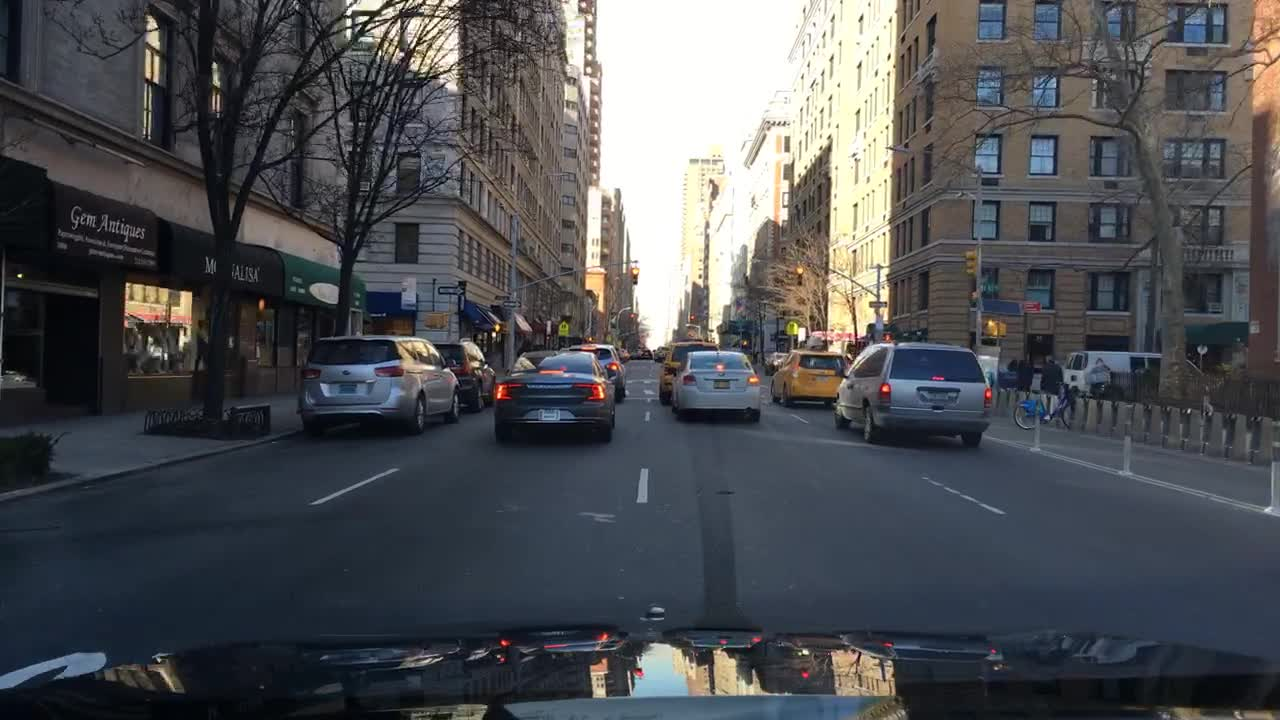bike: (1014, 388, 1076, 431)
car: (832, 340, 995, 450), (299, 337, 462, 437), (492, 350, 616, 443), (669, 350, 763, 425), (1065, 350, 1205, 400), (424, 336, 498, 413), (770, 350, 847, 409), (561, 342, 628, 405), (657, 341, 721, 403), (765, 352, 788, 375), (652, 345, 670, 362), (614, 345, 631, 363), (630, 346, 643, 360), (639, 348, 653, 360)
person: (1040, 357, 1064, 395), (1015, 358, 1034, 392)
traffic light: (421, 310, 448, 328), (983, 319, 1009, 337), (963, 249, 978, 277), (793, 257, 805, 274), (492, 321, 508, 333), (629, 266, 639, 285), (880, 330, 893, 341), (625, 309, 637, 320), (738, 336, 749, 346), (687, 310, 697, 320)
traffic sign: (435, 284, 465, 296), (978, 282, 1002, 294), (867, 298, 889, 309), (558, 318, 570, 337), (785, 321, 799, 336), (499, 299, 523, 307), (494, 294, 510, 301)
